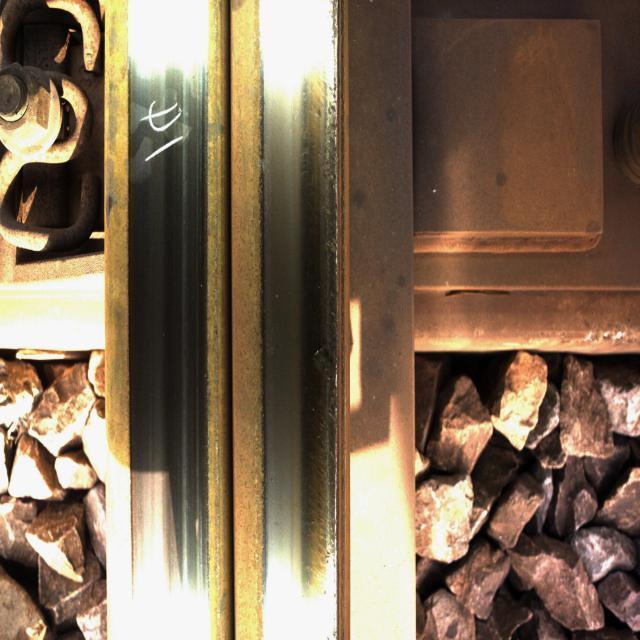crack: (122, 52, 208, 262)
scar: (294, 62, 338, 578)
